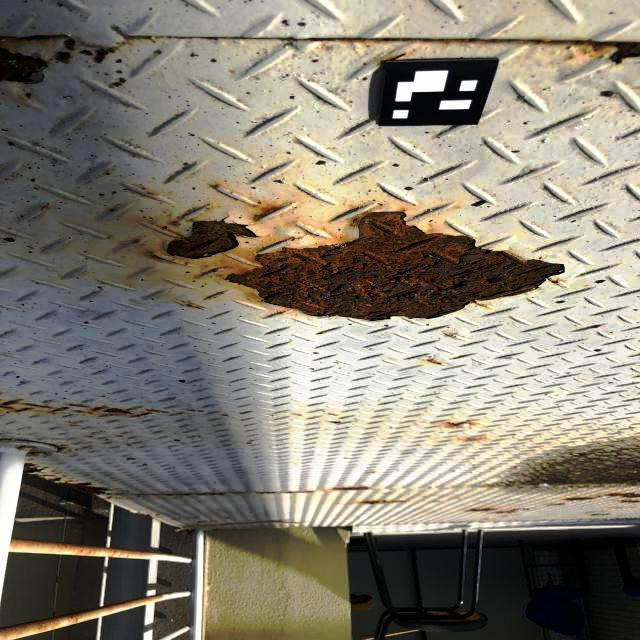Corrosion: (226, 211, 566, 321), (0, 595, 164, 640), (166, 220, 259, 259), (10, 538, 155, 558), (24, 462, 110, 495), (0, 48, 48, 83), (579, 41, 640, 66), (73, 406, 134, 419), (562, 491, 640, 501), (250, 206, 277, 223), (0, 400, 35, 413), (377, 52, 407, 65), (130, 409, 168, 418), (147, 251, 172, 262), (358, 500, 405, 505), (446, 422, 474, 429), (331, 486, 370, 491), (22, 403, 52, 409), (184, 304, 204, 310), (466, 508, 496, 512), (50, 407, 71, 412), (221, 264, 236, 271), (427, 359, 443, 365), (66, 403, 89, 407), (495, 509, 517, 513), (619, 499, 640, 503), (169, 220, 182, 226), (19, 445, 33, 450), (40, 204, 50, 211), (213, 181, 221, 189), (57, 445, 66, 452), (185, 410, 204, 413), (547, 503, 566, 506), (145, 191, 159, 195), (208, 269, 221, 273), (550, 279, 560, 284), (466, 438, 482, 441), (449, 333, 458, 338), (480, 303, 488, 307), (590, 325, 600, 328), (176, 412, 184, 415), (87, 436, 94, 438), (126, 444, 131, 446)
